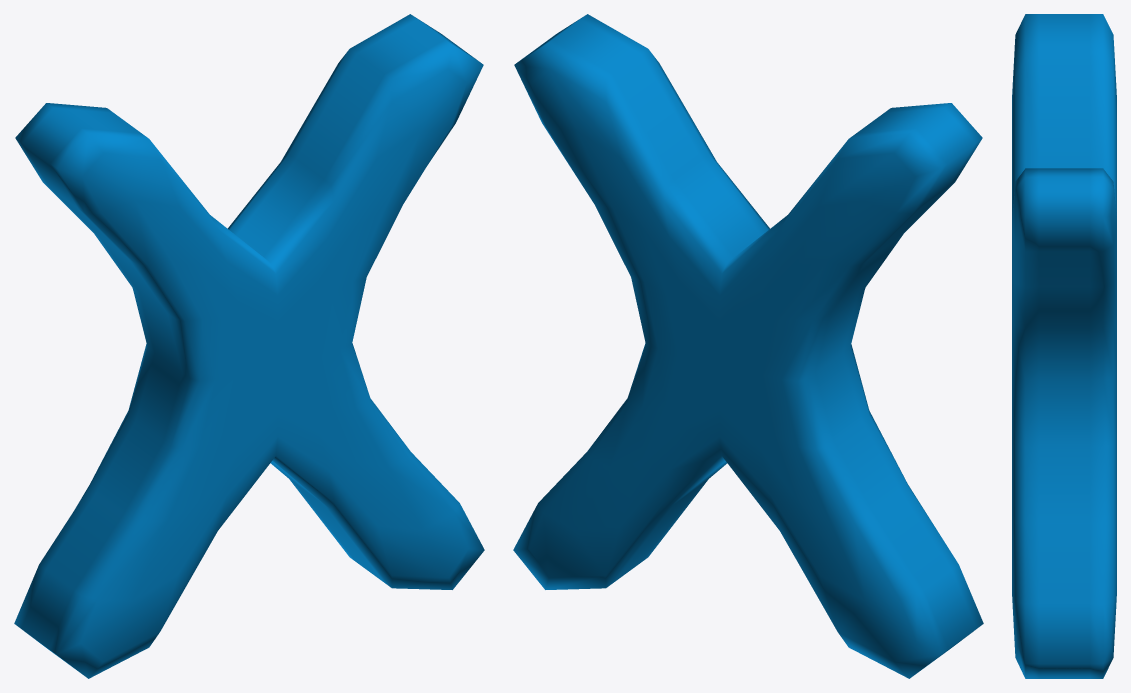
The model's file is X_icon2.fbx.
3 views of the same model, side by side, from view 1: azimuth 30°, elevation 25°; view 2: azimuth 150°, elevation 25°; view 3: azimuth 270°, elevation 25° (orthographic). The views are drawn at different scales.
Parts seen in each view (by area): view 1: Box001; view 2: Box001; view 3: Box001.
Boxes of the visible parts, box(x1,y1,x2,y2) form: Box001: box(14, 14, 484, 678); Box001: box(513, 14, 983, 678); Box001: box(1012, 14, 1116, 678).
Size of the model in its own units: 69.49 by 16.02 by 84.51.
Materials: 1 (1 with a texture image).
